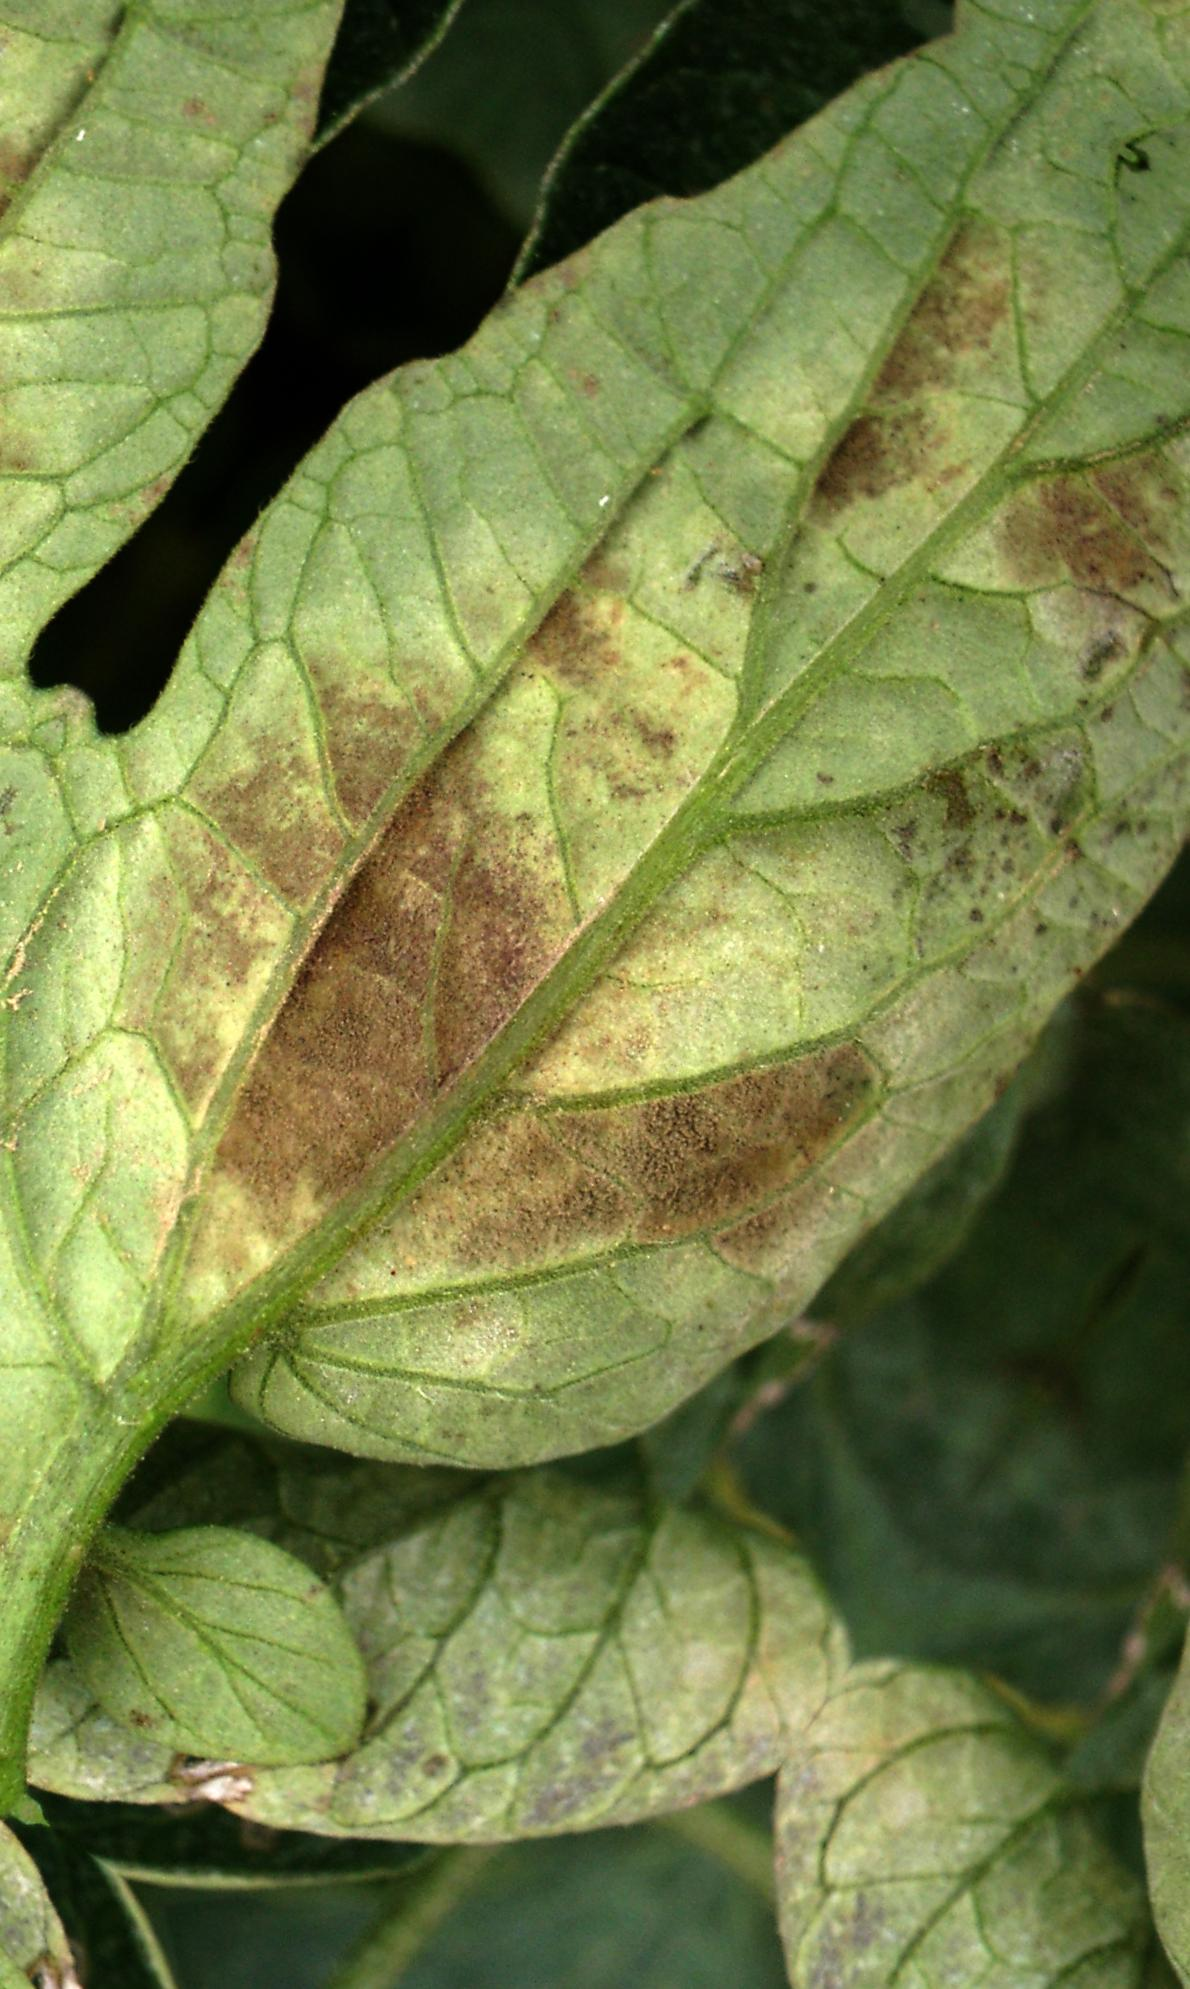Tomato mold leaf: (0, 0, 1190, 1989), (50, 1203, 932, 1989)
